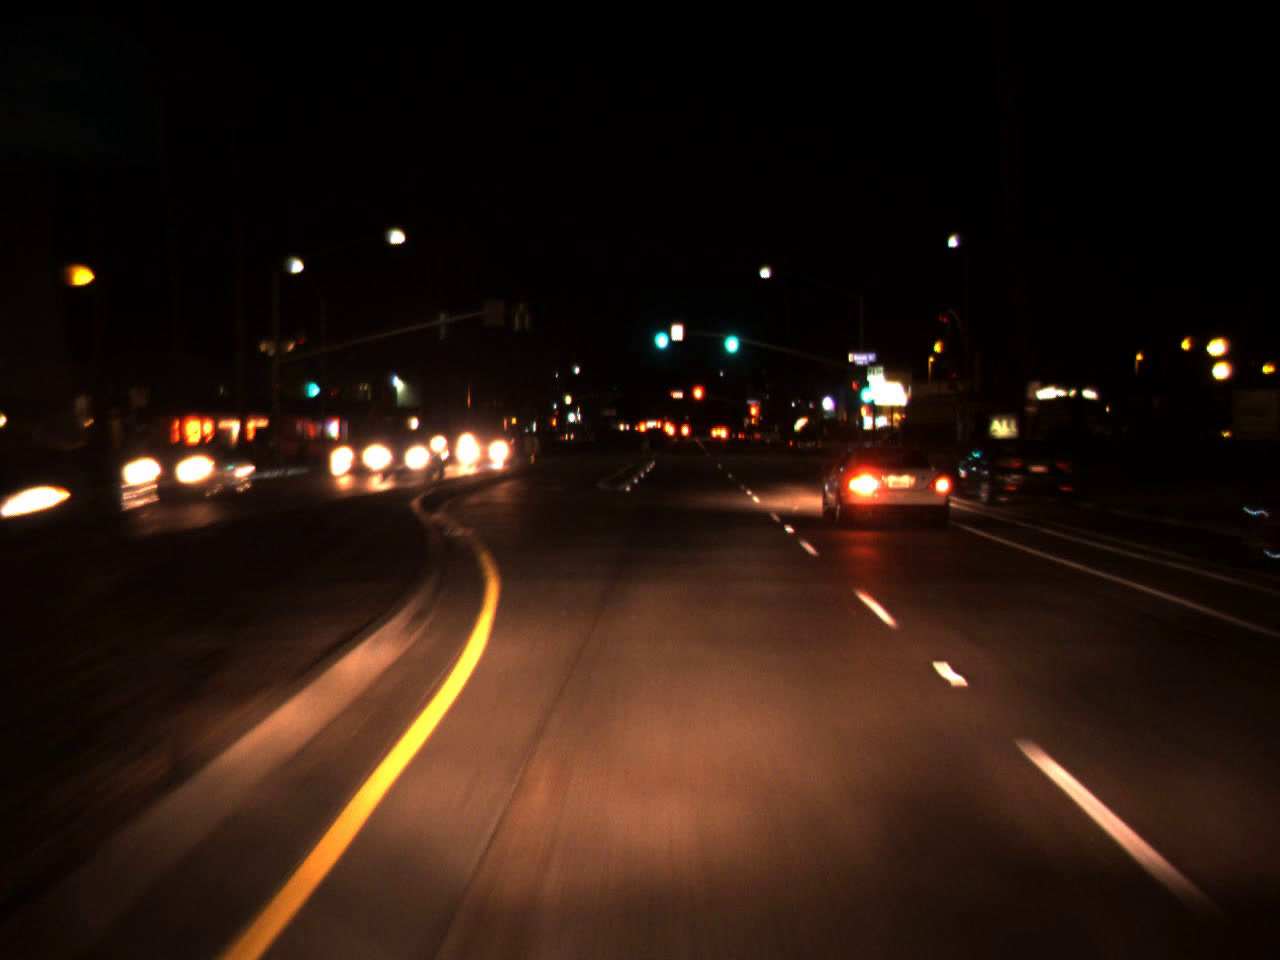go: (650, 312, 671, 354), (720, 318, 741, 354), (854, 370, 873, 406), (304, 366, 321, 402)
stop: (690, 382, 706, 419), (749, 401, 759, 433)
